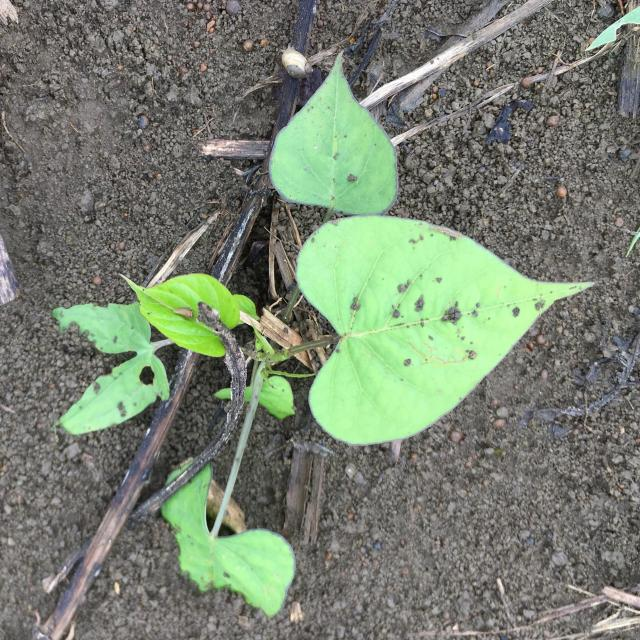MorningGlory: (51, 49, 594, 616)
